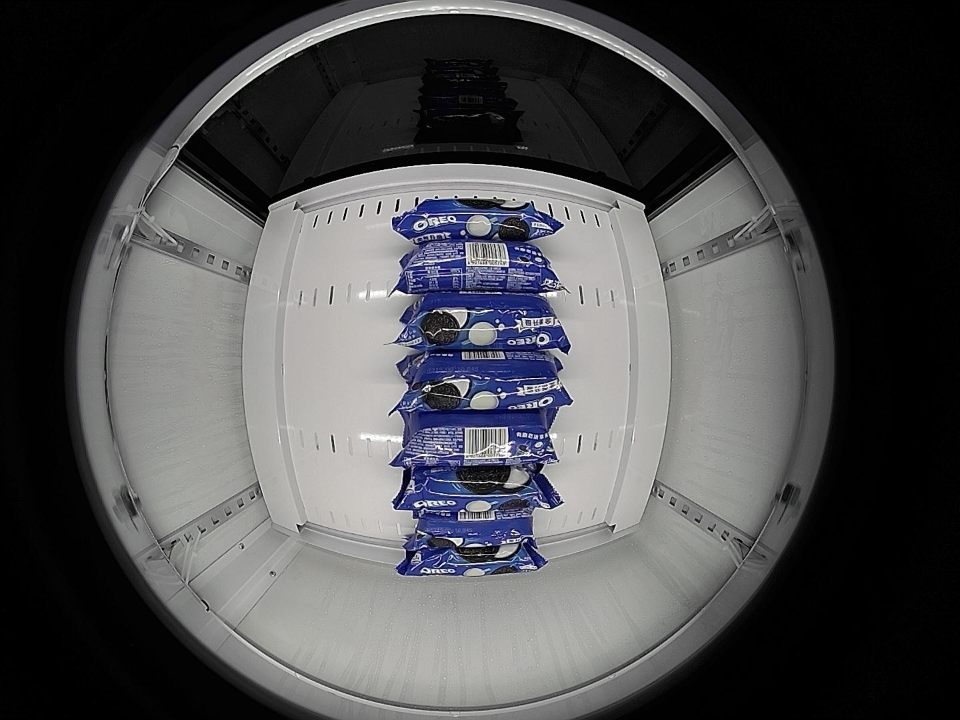aoliao: (397, 352, 573, 414), (399, 295, 573, 351), (395, 412, 561, 468), (397, 240, 561, 294), (391, 468, 561, 515), (395, 195, 553, 241), (401, 541, 545, 578), (411, 512, 536, 546)
